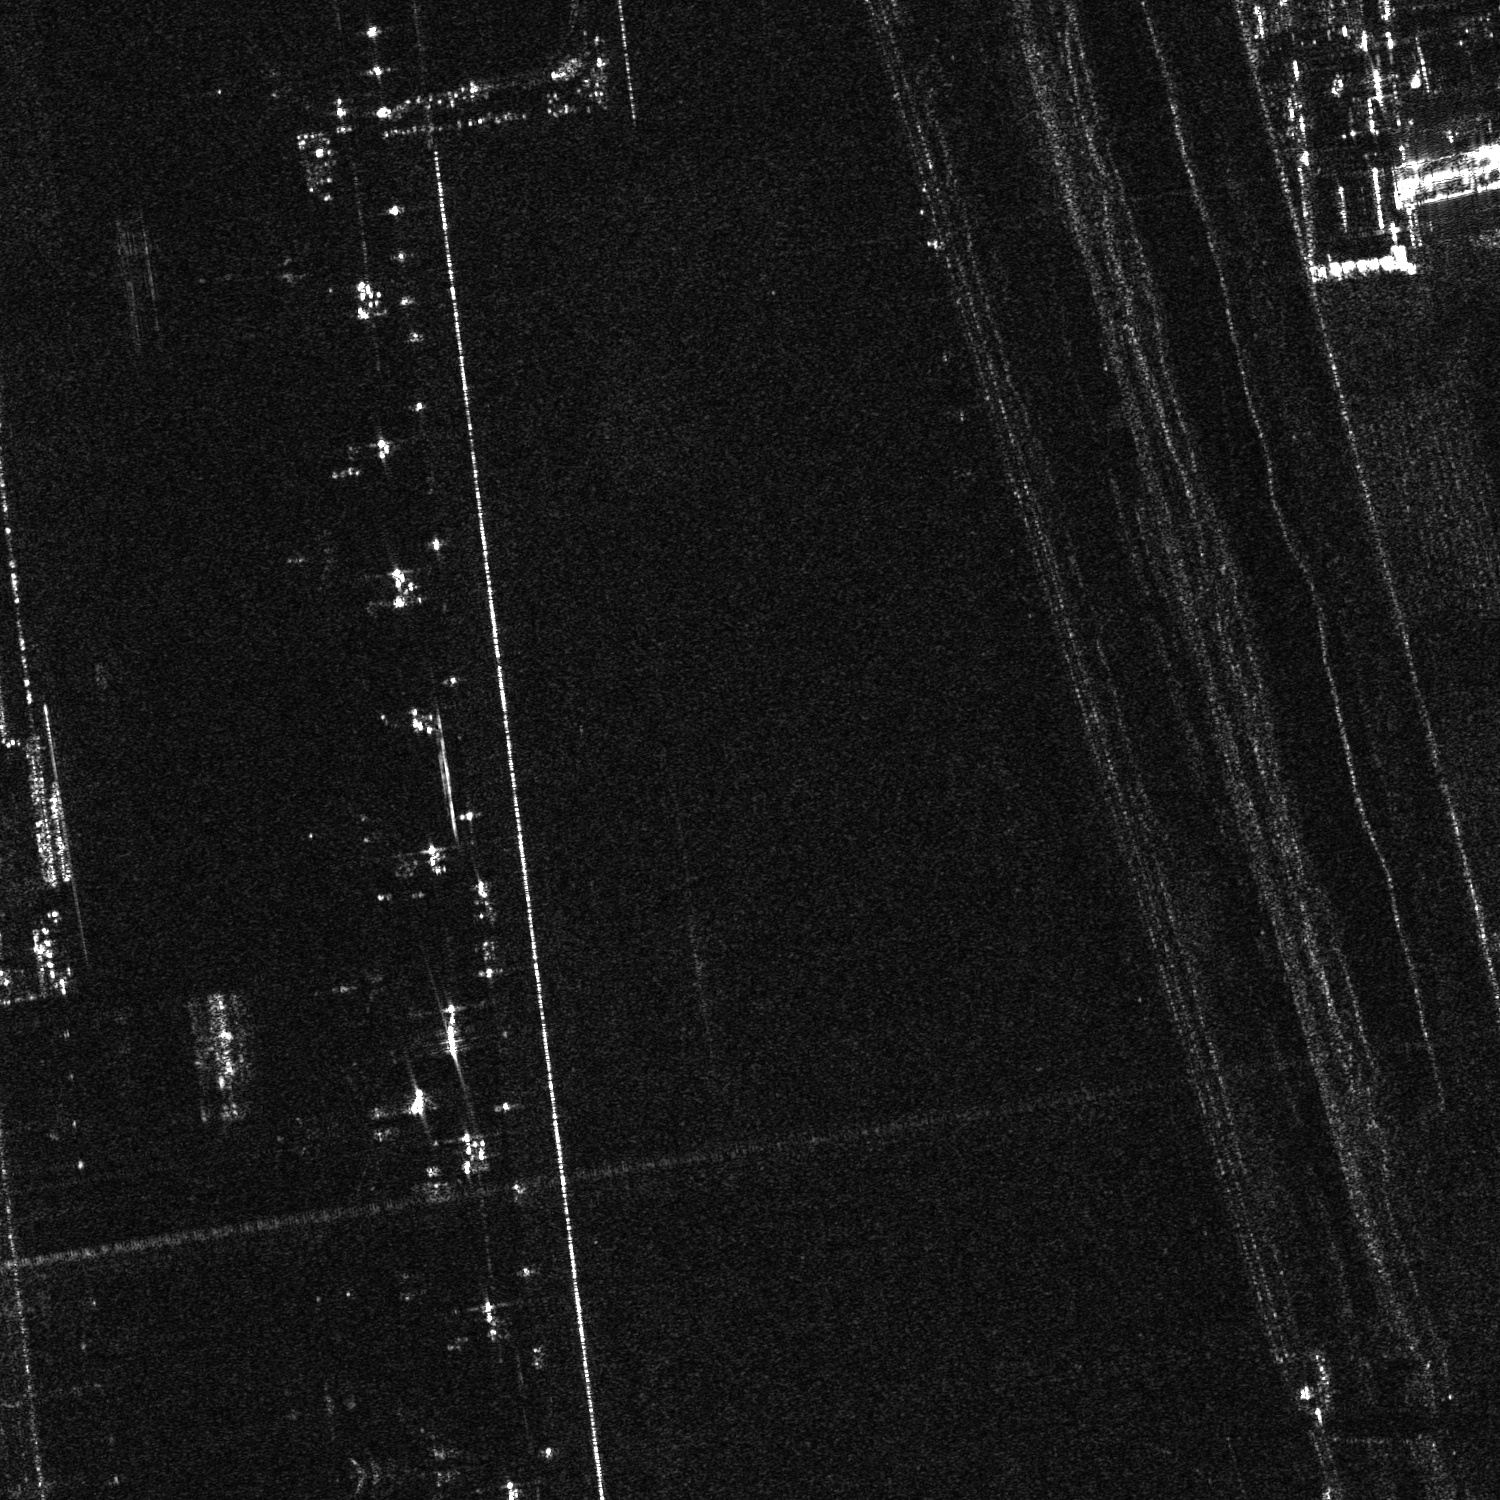A220: (321, 955, 390, 1021)
Boeing787: (352, 1407, 492, 1499), (275, 521, 357, 593)
